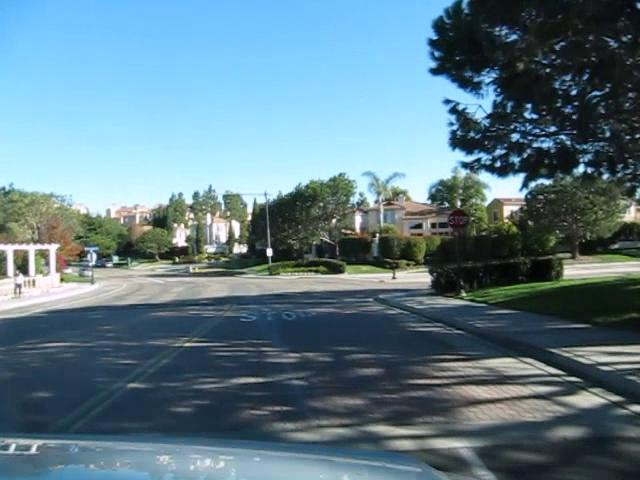stop: (446, 207, 471, 233)
